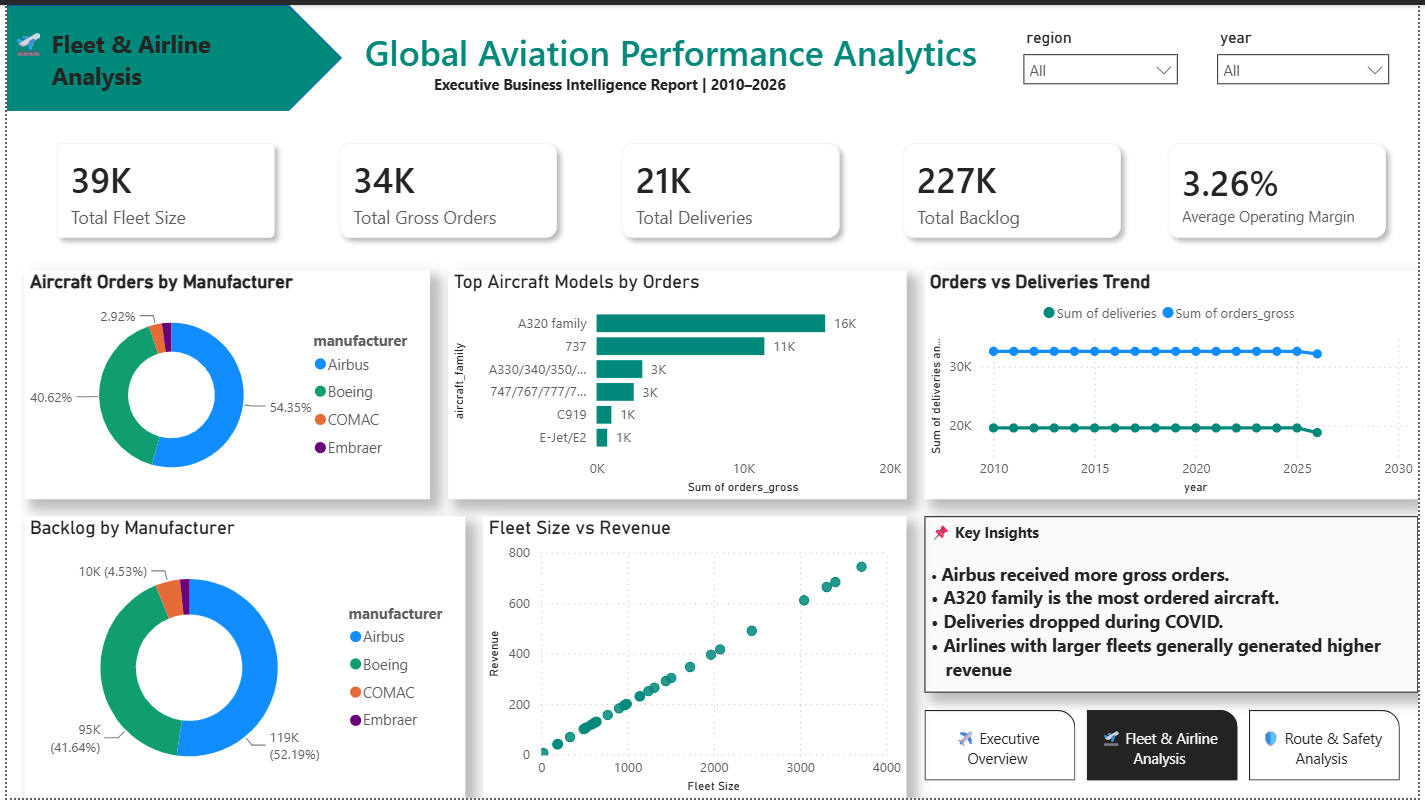

What the dashboard file says about the page in this screenshot:
{"tool":"powerbi","page":{"name":"🛫 Fleet & Airline Analysis","canvas":[1280,720],"ordinal":1},"visuals":[{"type":"textbox","box":[320,16,592,80],"z":0},{"type":"slicer","fields":{"Values":["aviation_project airline_financials.region"]},"box":[912,16,160,80],"z":1000},{"type":"slicer","fields":{"Values":["aviation_project airline_financials.year"]},"box":[1088,16,176,80],"z":2000},{"type":"cardVisual","fields":{"Data":["aviation_project airline_financials.Total Fleet Size"]},"box":[16,96,256,144],"z":3000},{"type":"cardVisual","fields":{"Data":["aviation_project airline_financials.Total Backlog"]},"box":[784,96,256,144],"z":4000},{"type":"cardVisual","fields":{"Data":["aviation_project airline_financials.Total Gross Orders"]},"box":[272,96,256,144],"z":5000},{"type":"cardVisual","fields":{"Data":["aviation_project airline_financials.Average Operating Margin"]},"box":[1024,96,256,144],"z":6000},{"type":"cardVisual","fields":{"Data":["aviation_project airline_financials.Total Deliveries"]},"box":[528,96,256,144],"z":7000},{"type":"donutChart","title":"Aircraft Orders by Manufacturer","fields":{"Category":["aviation_project fleet_orders.manufacturer"],"Y":["Sum(aviation_project fleet_orders.orders_gross)"]},"box":[16,240,368,208],"z":8000},{"type":"clusteredBarChart","title":"Top Aircraft Models by Orders","fields":{"Y":["Sum(aviation_project fleet_orders.orders_gross)"],"Category":["aviation_project fleet_orders.aircraft_family"]},"box":[400,240,416,208],"z":9000},{"type":"lineChart","title":"Orders vs Deliveries Trend","fields":{"Category":["aviation_project aviation_incidents.year"],"Y":["Sum(aviation_project fleet_orders.deliveries)","Sum(aviation_project fleet_orders.orders_gross)"]},"box":[832,240,448,208],"z":10000},{"type":"donutChart","title":"Backlog by Manufacturer","fields":{"Category":["aviation_project fleet_orders.manufacturer"],"Y":["aviation_project airline_financials.Total Backlog"]},"box":[16,464,400,256],"z":11000},{"type":"pageNavigator","box":[832,640,432,64],"z":12000},{"type":"textbox","box":[832,464,448,160],"z":13000},{"type":"scatterChart","title":"Fleet Size vs Revenue","fields":{"X":["Sum(aviation_project airline_financials.fleet_size_est)"],"Y":["aviation_project airline_financials.Total Revenue"],"Category":["aviation_project airline_financials.airline_name"]},"box":[432,464,384,256],"z":14000},{"type":"shape","box":[0,0,304,96],"z":15000},{"type":"textbox","box":[0,16,256,80],"z":16000}]}

Visuals, with their boxes in screenshot pixels (x1, y1, x2, y2), scaled from the page's 1280x720 canvas onto the 1425x805 screenshot:
textbox: pyautogui.locateOnScreen(356, 18, 1015, 107)
slicer - aviation_project airline_financials.region: pyautogui.locateOnScreen(1015, 18, 1193, 107)
slicer - aviation_project airline_financials.year: pyautogui.locateOnScreen(1211, 18, 1407, 107)
cardVisual - aviation_project airline_financials.Total Fleet Size: pyautogui.locateOnScreen(18, 107, 303, 268)
cardVisual - aviation_project airline_financials.Total Backlog: pyautogui.locateOnScreen(873, 107, 1158, 268)
cardVisual - aviation_project airline_financials.Total Gross Orders: pyautogui.locateOnScreen(303, 107, 588, 268)
cardVisual - aviation_project airline_financials.Average Operating Margin: pyautogui.locateOnScreen(1140, 107, 1424, 268)
cardVisual - aviation_project airline_financials.Total Deliveries: pyautogui.locateOnScreen(588, 107, 873, 268)
"Aircraft Orders by Manufacturer" donutChart: pyautogui.locateOnScreen(18, 268, 428, 501)
"Top Aircraft Models by Orders" clusteredBarChart: pyautogui.locateOnScreen(445, 268, 908, 501)
"Orders vs Deliveries Trend" lineChart: pyautogui.locateOnScreen(926, 268, 1424, 501)
"Backlog by Manufacturer" donutChart: pyautogui.locateOnScreen(18, 519, 463, 804)
pageNavigator: pyautogui.locateOnScreen(926, 716, 1407, 787)
textbox: pyautogui.locateOnScreen(926, 519, 1424, 698)
"Fleet Size vs Revenue" scatterChart: pyautogui.locateOnScreen(481, 519, 908, 804)
shape: pyautogui.locateOnScreen(0, 0, 338, 107)
textbox: pyautogui.locateOnScreen(0, 18, 285, 107)
